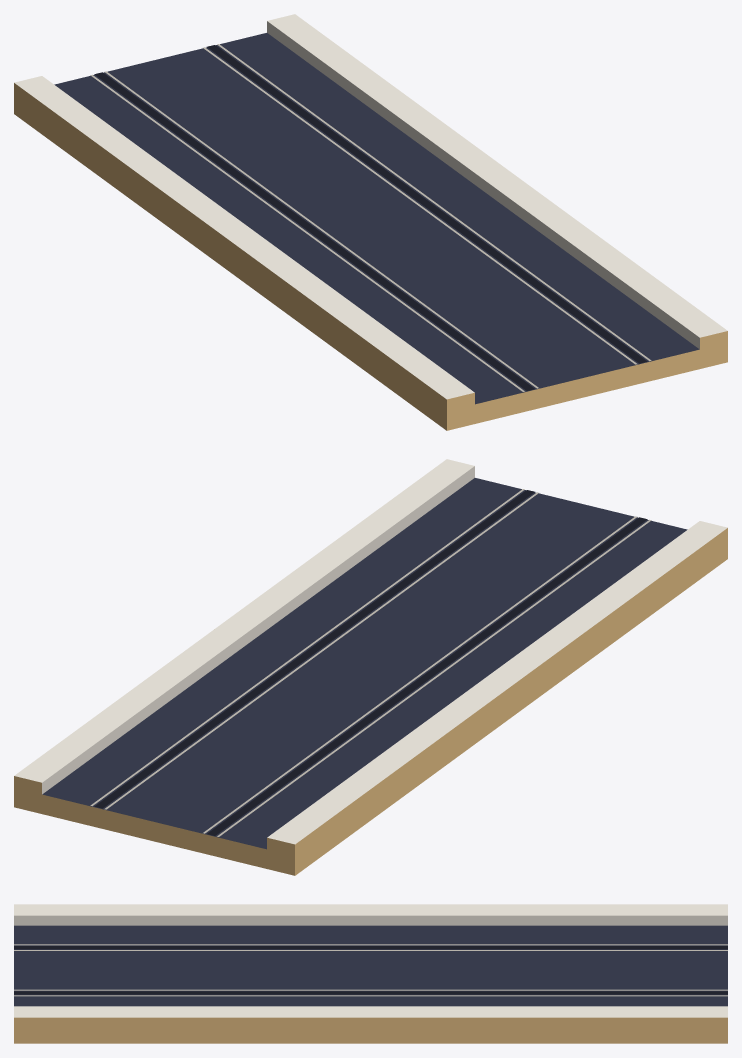
The model's file is Track_2L_Straight8.fbx.
The picture shows the model from 3 angles, top to bottom: view 1: azimuth 30°, elevation 25°; view 2: azimuth 150°, elevation 25°; view 3: azimuth 270°, elevation 25°; orthographic projection. The views are drawn at different scales.
Parts seen in each view (by area): view 1: Track_2L_Straight8; view 2: Track_2L_Straight8; view 3: Track_2L_Straight8.
Part boxes in pixels (left/top/right/bottom): Track_2L_Straight8: left=14, top=14, right=727, bottom=430; Track_2L_Straight8: left=14, top=459, right=727, bottom=875; Track_2L_Straight8: left=14, top=904, right=727, bottom=1043.
Size of the model in its own units: 3 by 0.32 by 8.
